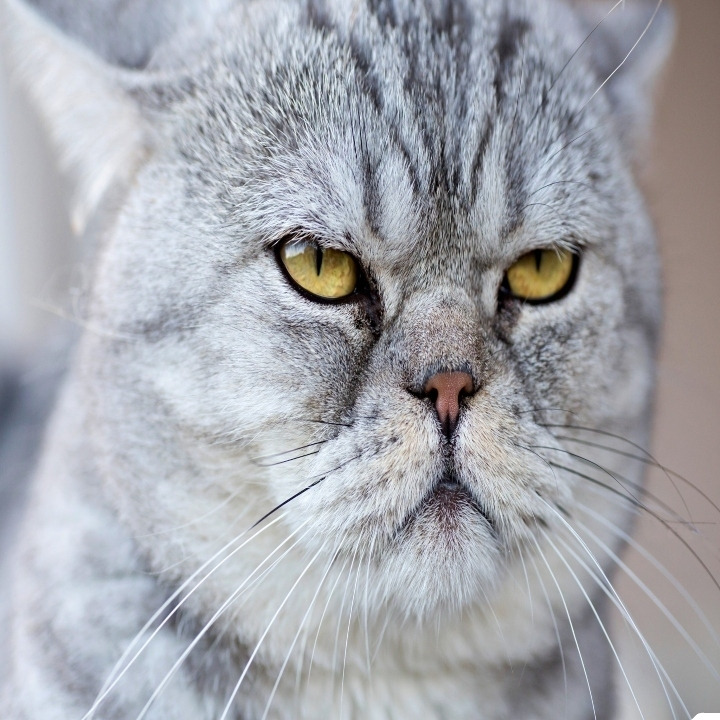Cat: (5, 0, 719, 713)
